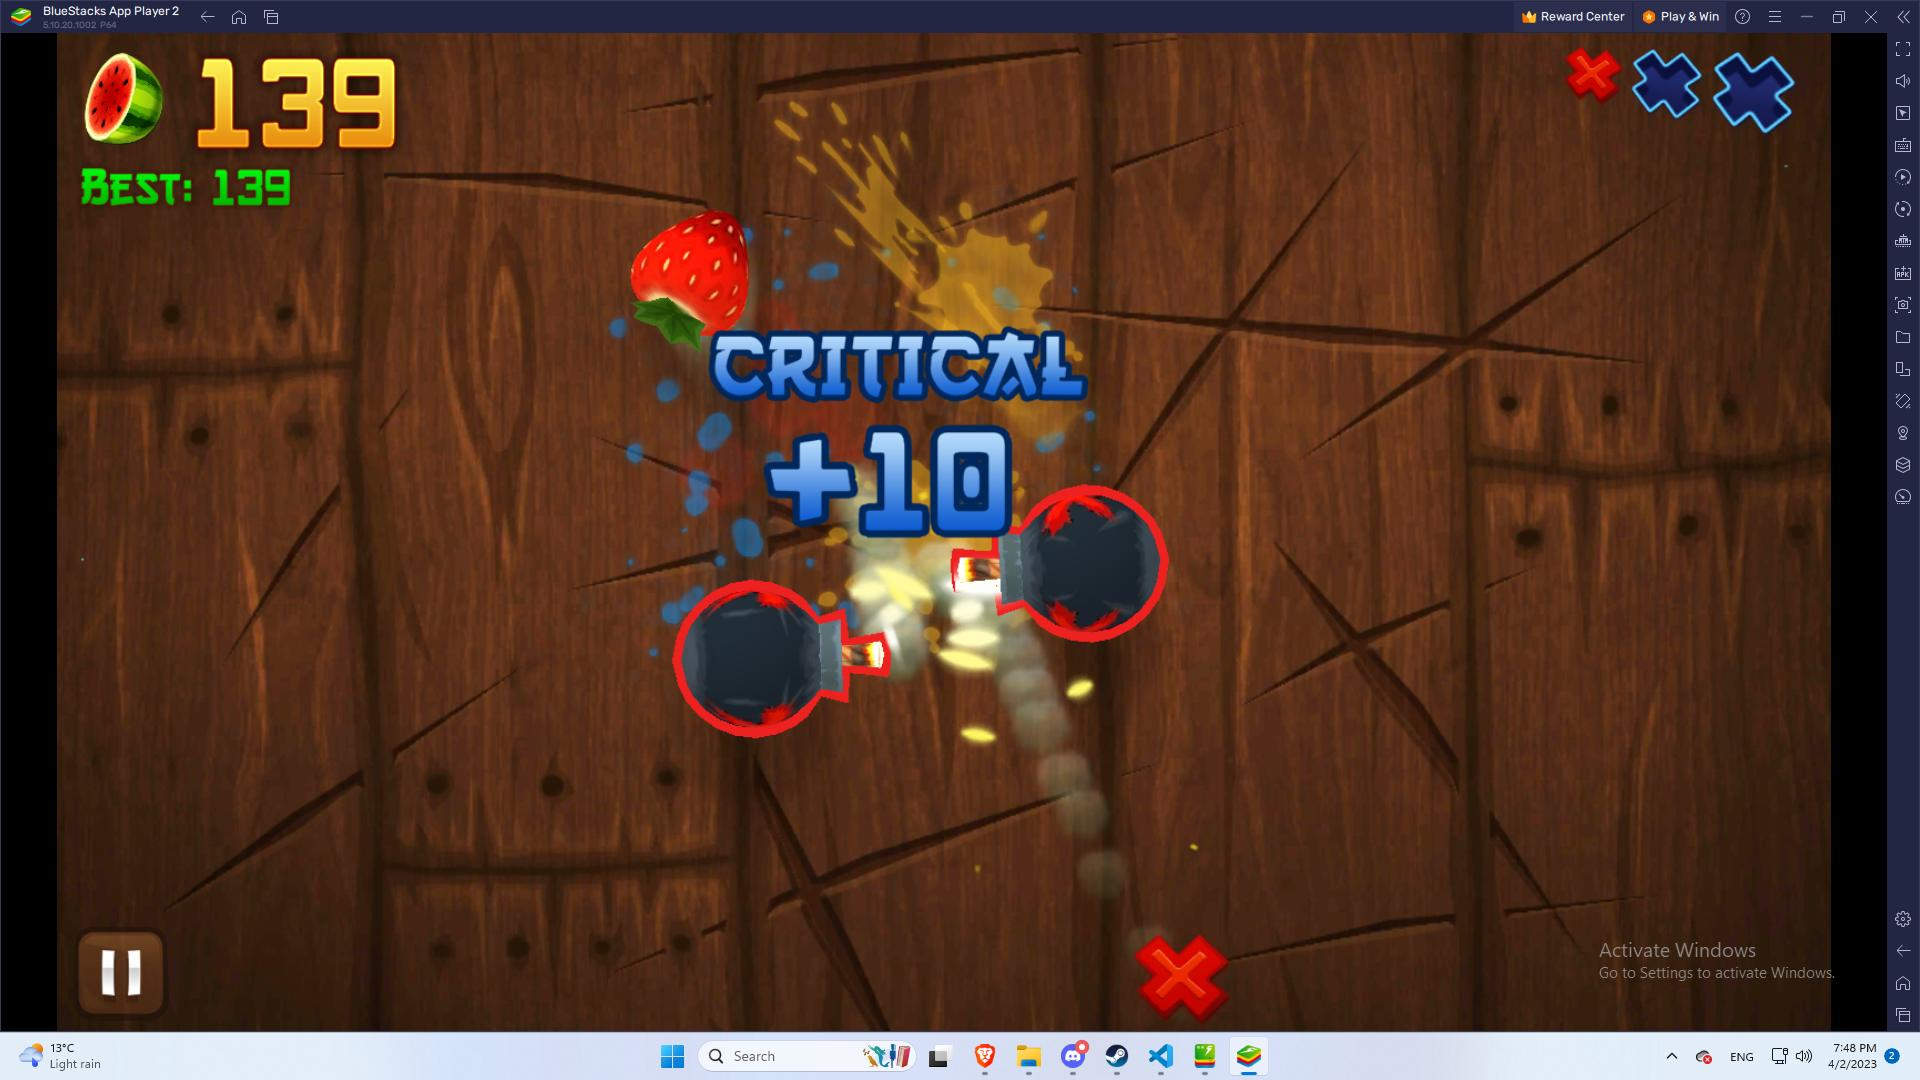bomb: (649, 575, 910, 732), (944, 492, 1176, 640)
fruit: (624, 193, 758, 339)
